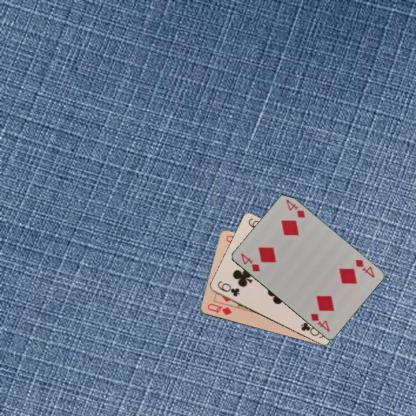4d: (352, 257, 376, 280), (238, 250, 260, 273)
6c: (214, 278, 241, 298)
Qd: (204, 301, 233, 317)
